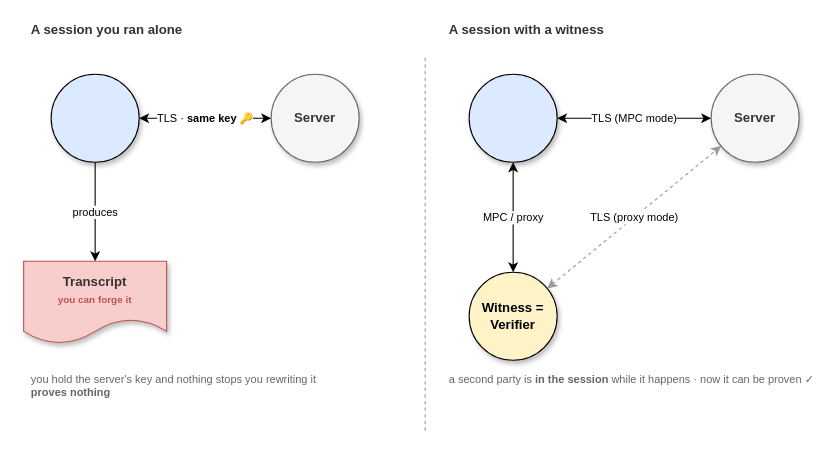
The diagram is 840 pixels wide and 452 high, and some of its shapes have lost their labels. The centre of each missing label's shape, as x and y in pixels:
"You = Client" goes at pixel 96 119.
"You = Prover" goes at pixel 514 119.
